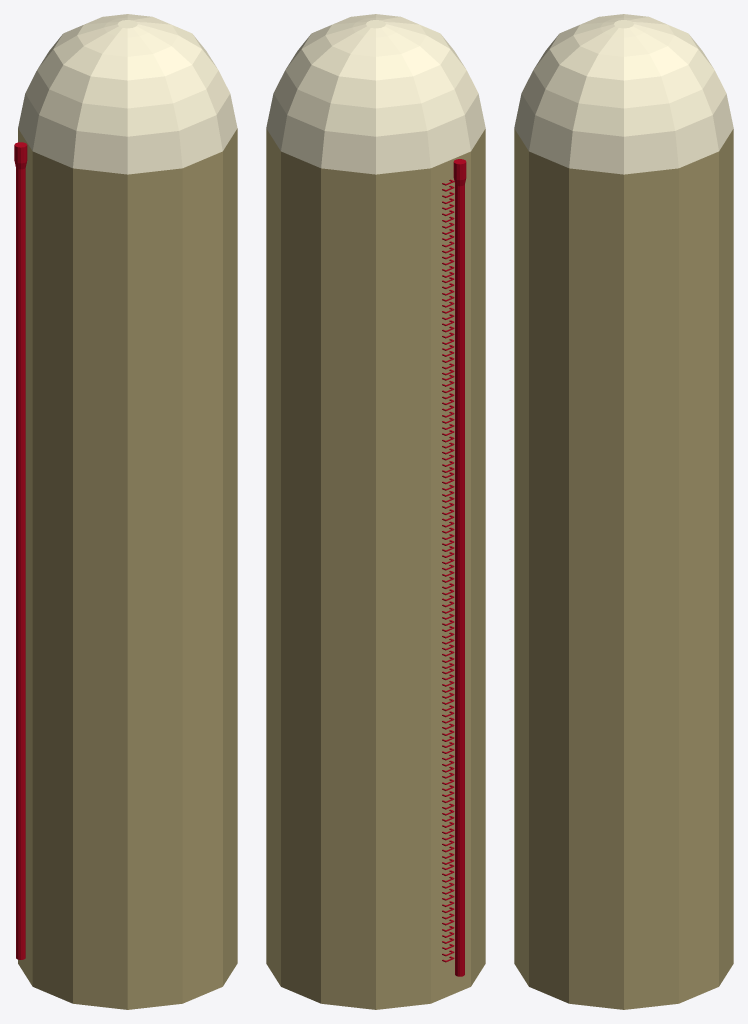
Rendered from SM_Silos_001.fbx.
3 views of the same model, side by side, from view 1: azimuth 30°, elevation 25°; view 2: azimuth 150°, elevation 25°; view 3: azimuth 270°, elevation 25° (orthographic).
Visible parts, largest first — view 1: Silos; view 2: Silos; view 3: Silos.
Boxes of the visible parts, x1,y1,x2,y2 form: Silos: [14, 14, 237, 1009]; Silos: [266, 14, 485, 1009]; Silos: [514, 14, 733, 1009].
Size of the model in its own units: 167 by 767 by 162.
